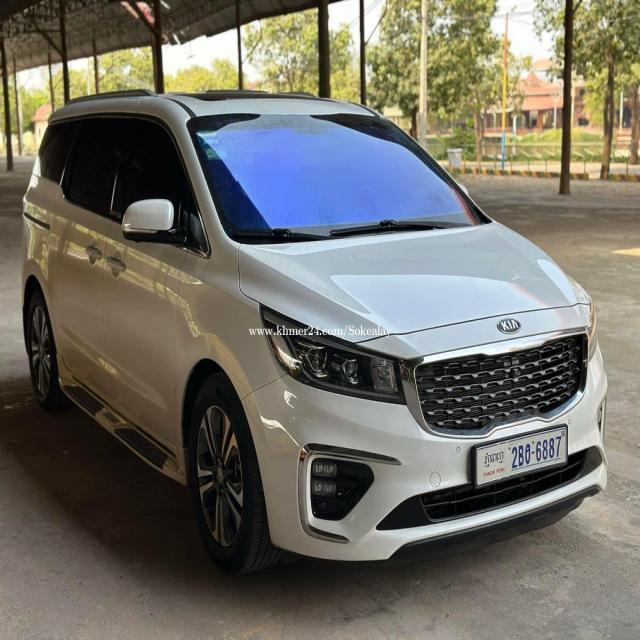Phnom_Penh: (481, 450, 507, 470)
